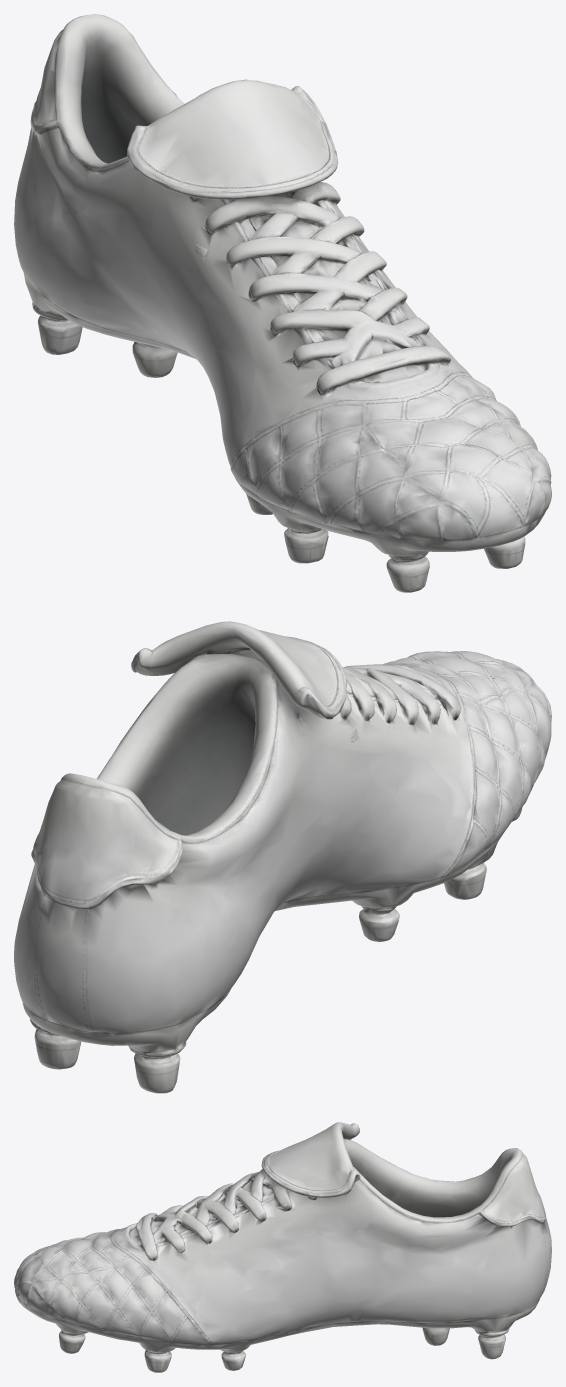
The model's file is boot-classic-hf.glb.
The picture shows the model from 3 angles, top to bottom: view 1: azimuth 30°, elevation 25°; view 2: azimuth 150°, elevation 25°; view 3: azimuth 270°, elevation 25°; orthographic projection. The views are drawn at different scales.
Visible parts, largest first — view 1: tripo_node_b5cabb40-9ecd-4e98-8e40-e4a2309d2788; view 2: tripo_node_b5cabb40-9ecd-4e98-8e40-e4a2309d2788; view 3: tripo_node_b5cabb40-9ecd-4e98-8e40-e4a2309d2788.
Boxes of the visible parts, x1,y1,x2,y2 form: tripo_node_b5cabb40-9ecd-4e98-8e40-e4a2309d2788: (14,14,551,592); tripo_node_b5cabb40-9ecd-4e98-8e40-e4a2309d2788: (14,621,551,1093); tripo_node_b5cabb40-9ecd-4e98-8e40-e4a2309d2788: (14,1122,551,1372).
Size of the model in its own units: 0.3202 by 0.4468 by 0.9999.
Materials: 1 (1 with a texture image).
